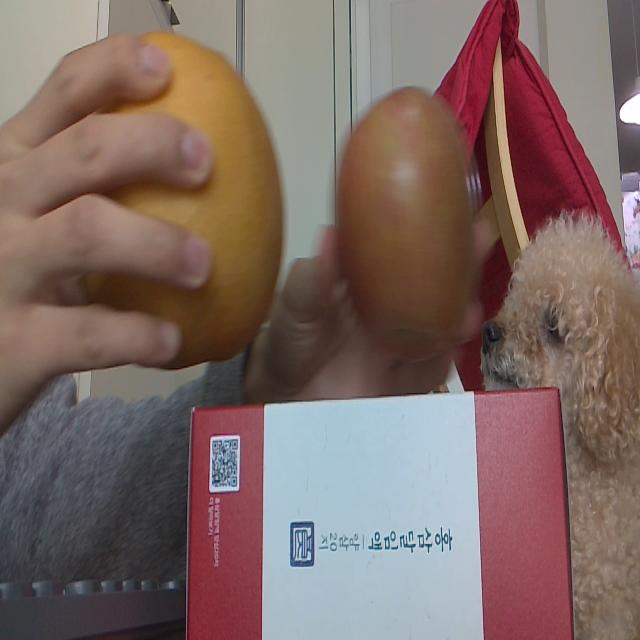apple: (334, 83, 478, 359)
pear: (85, 31, 283, 375)
